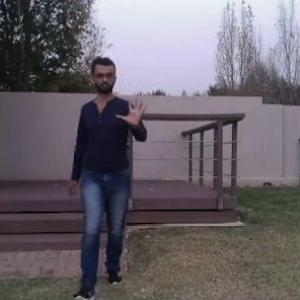follow_hand: (117, 94, 150, 127)
